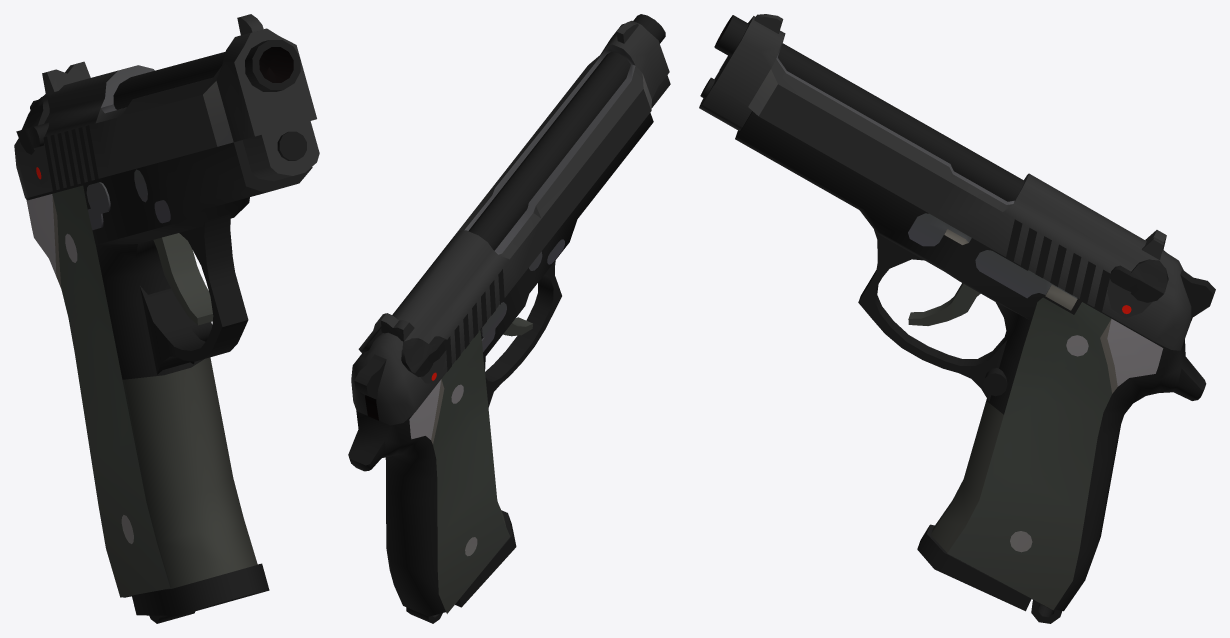
File: Pistol.glb
The picture shows the model from 3 angles, left to right: view 1: azimuth 30°, elevation 25°; view 2: azimuth 150°, elevation 25°; view 3: azimuth 270°, elevation 25°; orthographic projection. The views are drawn at different scales.
Parts seen in each view (by area): view 1: Pistol; view 2: Pistol; view 3: Pistol.
Boxes of the visible parts, <box> form: Pistol: <box>14,14,319,623</box>; Pistol: <box>348,14,670,623</box>; Pistol: <box>699,14,1215,623</box>.
Size of the model in its own units: 0.1462 by 0.5748 by 0.4768.
Materials: 1 (1 with a texture image).
